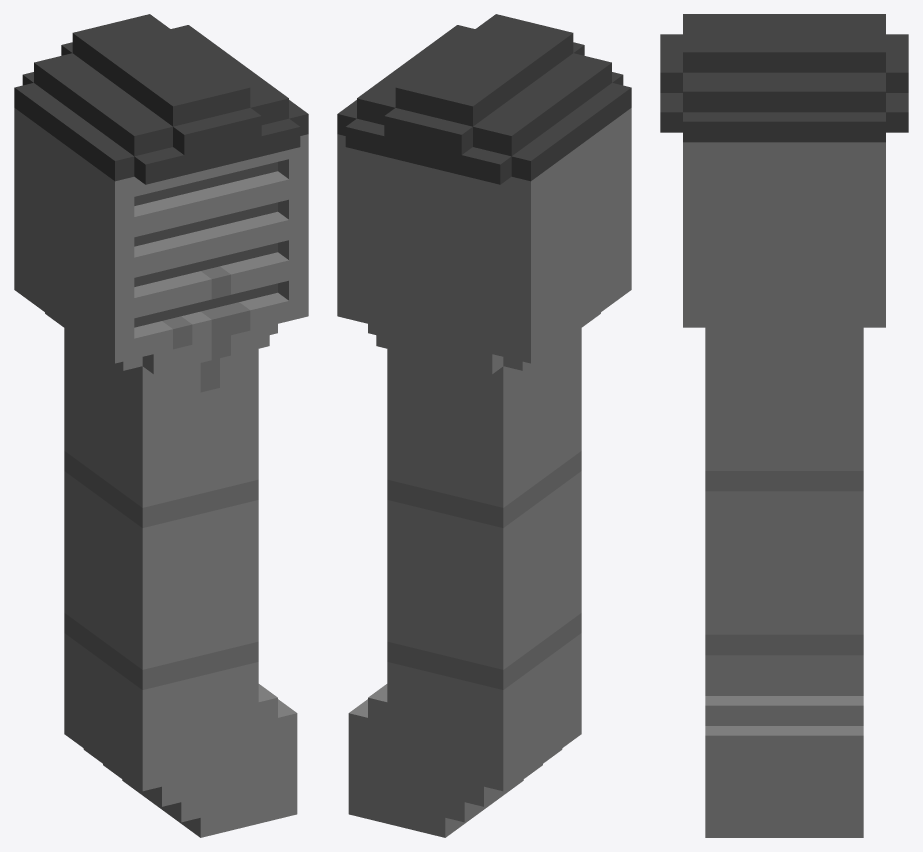
Rendered from kitchenVent.glb.
3 views of the same model, side by side, from view 1: azimuth 30°, elevation 25°; view 2: azimuth 150°, elevation 25°; view 3: azimuth 270°, elevation 25° (orthographic).
Parts seen in each view (by area): view 1: ObjObject; view 2: ObjObject; view 3: ObjObject.
Part boxes in pixels (left/top/right/bottom): ObjObject: left=14, top=14, right=308, bottom=837; ObjObject: left=337, top=14, right=631, bottom=837; ObjObject: left=660, top=14, right=908, bottom=837.
Bounding box in the file's own units: 1 × 3.7 × 1.1.
Materials: 1 (1 with a texture image).
